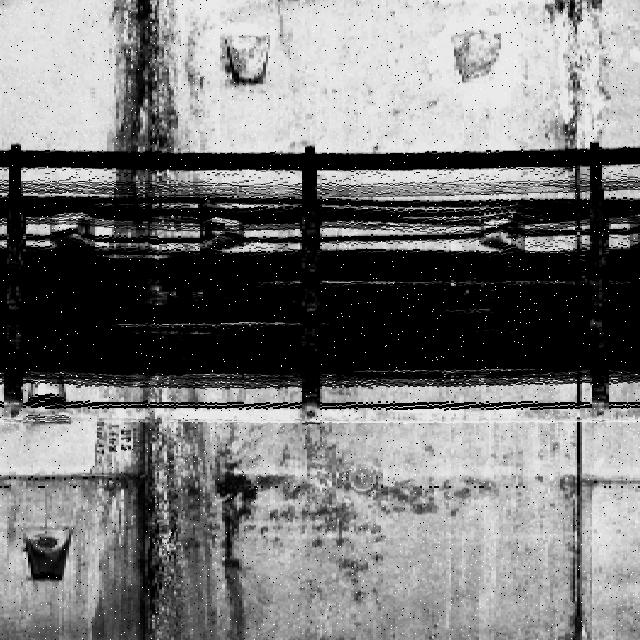leakage: (82, 374, 245, 640), (103, 1, 203, 247)
